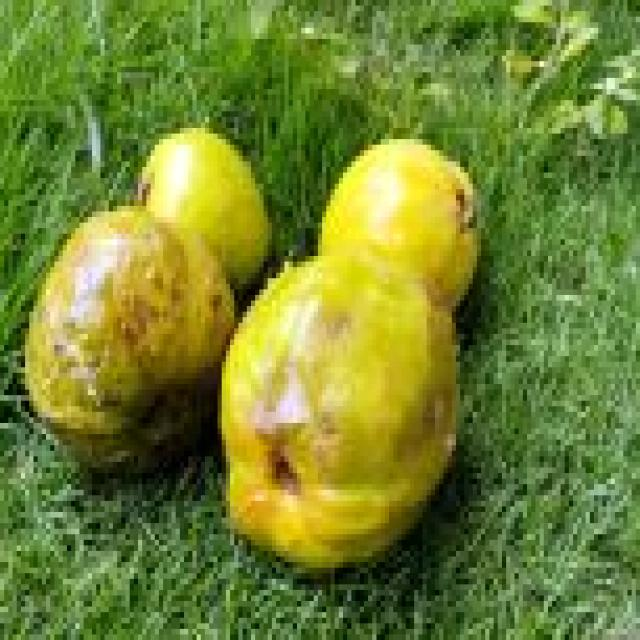Bad_Guava 0 day: (21, 211, 460, 573)
Good_Guava 5-7 days: (314, 139, 481, 312), (138, 128, 276, 306)
